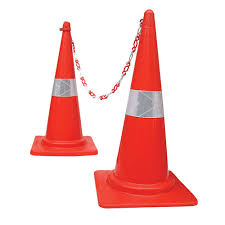cones: (94, 7, 201, 210), (30, 19, 101, 160)
